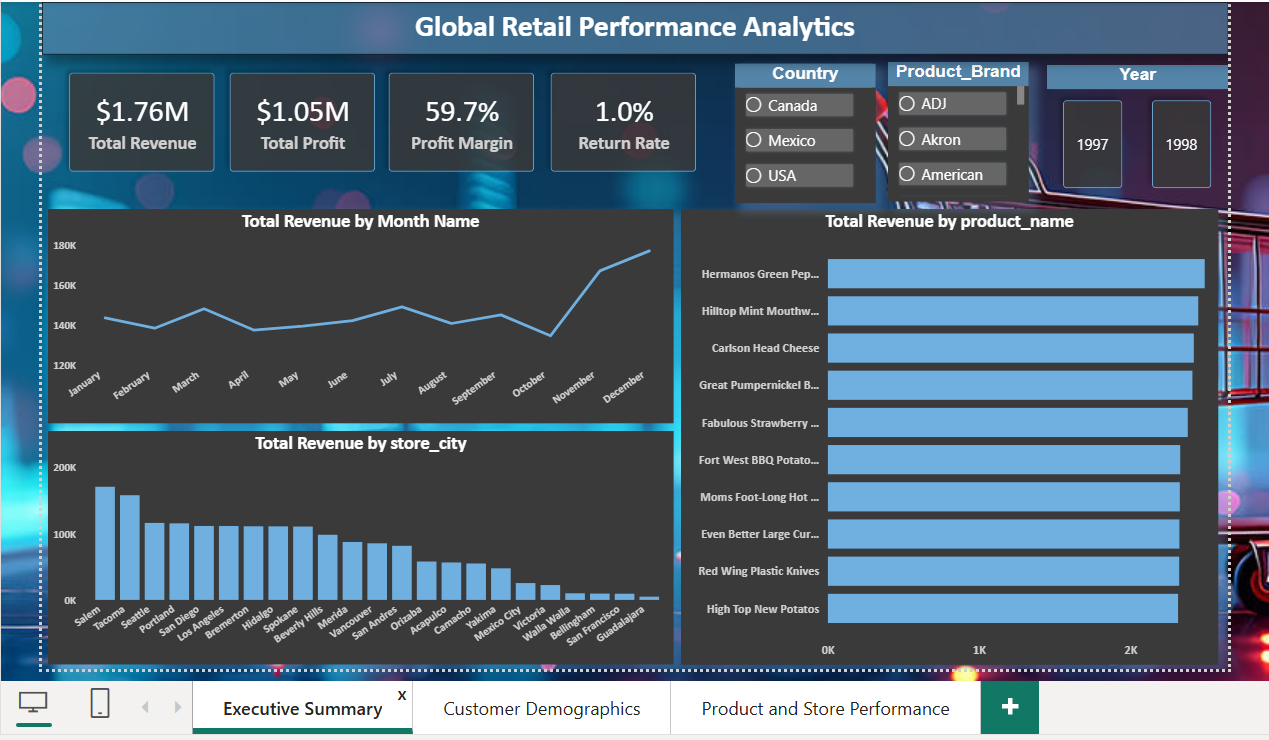

Layout of this report page (visuals, bound fields, positions):
{"tool":"powerbi","page":{"name":"Executive Summary","canvas":[1280,720],"ordinal":0},"visuals":[{"type":"cardVisual","fields":{"Data":["Fact_Transaction.Total Revenue"]},"box":[0,47,215.4,165.2],"z":0},{"type":"cardVisual","fields":{"Data":["Fact_Transaction.Total Profit"]},"box":[173.3,47,215.4,165.2],"z":1000},{"type":"cardVisual","fields":{"Data":["Fact_Transaction.Profit Margin"]},"box":[344.9,47,215.4,165.2],"z":2000},{"type":"cardVisual","fields":{"Data":["Fact_Transaction.Return Rate"]},"box":[519.8,47,215.4,165.2],"z":3000},{"type":"lineChart","title":"Total Revenue by Month Name","fields":{"Y":["Fact_Transaction.Total Revenue"],"Category":["Calendar.Month Name"]},"box":[6.5,223.5,675.2,231.5],"z":4000},{"type":"columnChart","title":"Total Revenue by store_city","fields":{"Category":["Stores.store_city"],"Y":["Fact_Transaction.Total Revenue"]},"box":[6.5,463.1,675.2,252],"z":5000},{"type":"barChart","title":"Total Revenue by product_name","fields":{"Category":["Products.product_name"],"Y":["Fact_Transaction.Total Revenue"]},"box":[693,223.5,568.3,497.1],"z":6000},{"type":"advancedSlicerVisual","fields":{"Values":["Calendar.Year"]},"box":[1084.9,68,195.9,150],"z":7000},{"type":"listSlicer","title":"Country","fields":{"Values":["Stores.store_country"]},"box":[748.1,66.4,152.2,150.6],"z":8000},{"type":"listSlicer","title":"Product_Brand","fields":{"Values":["Products.product_brand"]},"box":[913.2,64.8,152,150.6],"z":9000},{"type":"textbox","box":[0,0,1280.8,47],"z":10000}]}

Visuals, with their boxes on the page's 1280x720 design canvas (x1, y1, x2, y2). These are canvas units, not pixel positions in the 1269x740 screenshot, which may show the page scaled, cropped or inside an application window:
cardVisual - Fact_Transaction.Total Revenue: pyautogui.locateOnScreen(0, 47, 215, 212)
cardVisual - Fact_Transaction.Total Profit: pyautogui.locateOnScreen(173, 47, 389, 212)
cardVisual - Fact_Transaction.Profit Margin: pyautogui.locateOnScreen(345, 47, 560, 212)
cardVisual - Fact_Transaction.Return Rate: pyautogui.locateOnScreen(520, 47, 735, 212)
"Total Revenue by Month Name" lineChart: pyautogui.locateOnScreen(6, 224, 682, 455)
"Total Revenue by store_city" columnChart: pyautogui.locateOnScreen(6, 463, 682, 715)
"Total Revenue by product_name" barChart: pyautogui.locateOnScreen(693, 224, 1261, 721)
advancedSlicerVisual - Calendar.Year: pyautogui.locateOnScreen(1085, 68, 1281, 218)
"Country" listSlicer: pyautogui.locateOnScreen(748, 66, 900, 217)
"Product_Brand" listSlicer: pyautogui.locateOnScreen(913, 65, 1065, 215)
textbox: pyautogui.locateOnScreen(0, 0, 1281, 47)
